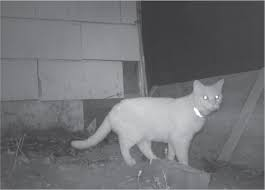house cat: (61, 74, 233, 171)
